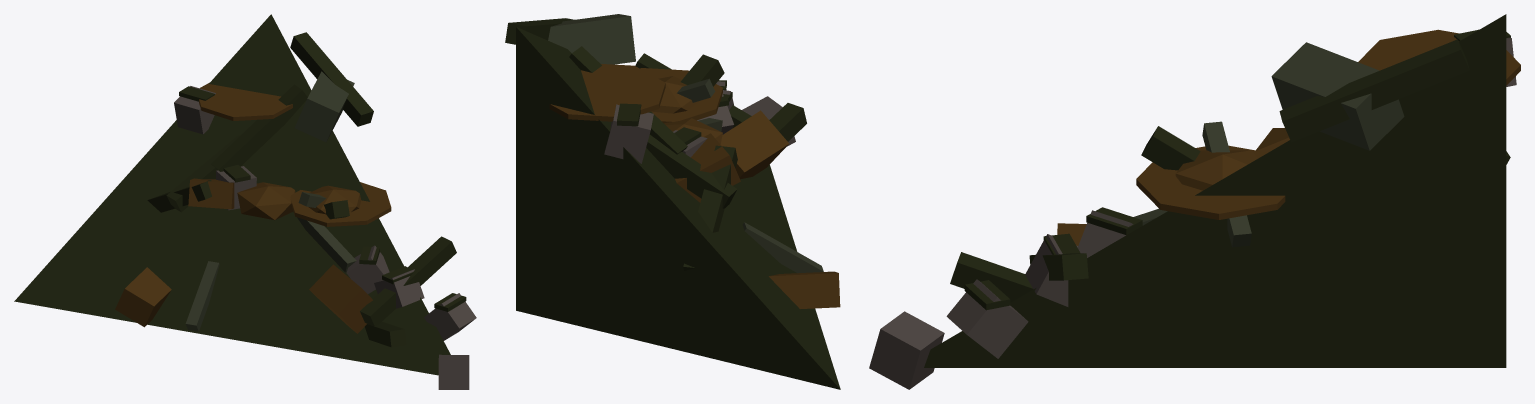
Rendered from SM_PilaZombi_RemateIzq_Altura3_s2_LOD0.fbx.
3 views of the same model, side by side, from view 1: azimuth 30°, elevation 25°; view 2: azimuth 150°, elevation 25°; view 3: azimuth 270°, elevation 25° (orthographic). The views are drawn at different scales.
Parts seen in each view (by area): view 1: SM_pila_zombis_v12_LOD0; view 2: SM_pila_zombis_v12_LOD0; view 3: SM_pila_zombis_v12_LOD0.
Boxes of the visible parts, box(x1,y1,x2,y2) form: SM_pila_zombis_v12_LOD0: box(14, 14, 476, 389); SM_pila_zombis_v12_LOD0: box(505, 14, 840, 389); SM_pila_zombis_v12_LOD0: box(869, 14, 1520, 389).
Bounding box in the file's own units: 2.39 × 1.77 × 2.84.
